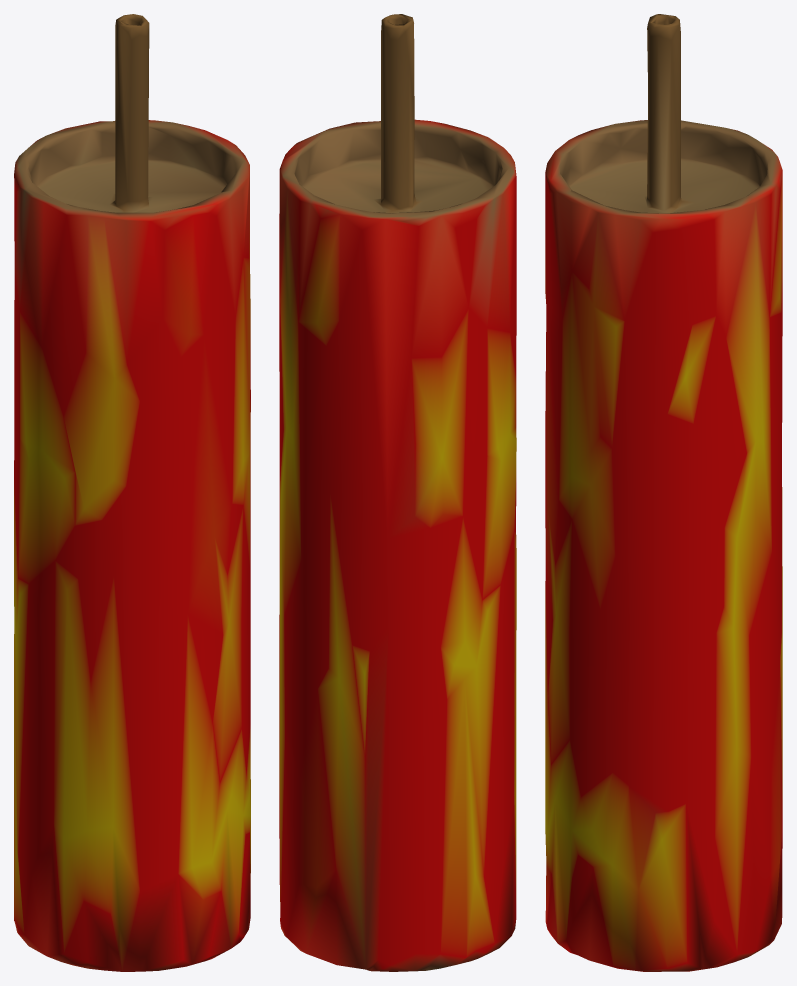
File: gen3d-firework-lod1.glb
3 renders of one model, left to right at view 1: azimuth 30°, elevation 25°; view 2: azimuth 150°, elevation 25°; view 3: azimuth 270°, elevation 25°, orthographic.
Parts seen in each view (by area): view 1: part_0; view 2: part_0; view 3: part_0.
Part boxes in pixels (x1,y1,x2,y2): part_0: [14, 14, 250, 971]; part_0: [279, 14, 516, 971]; part_0: [545, 14, 782, 971].
Size of the model in its own units: 0.2391 by 1 by 0.2381.
